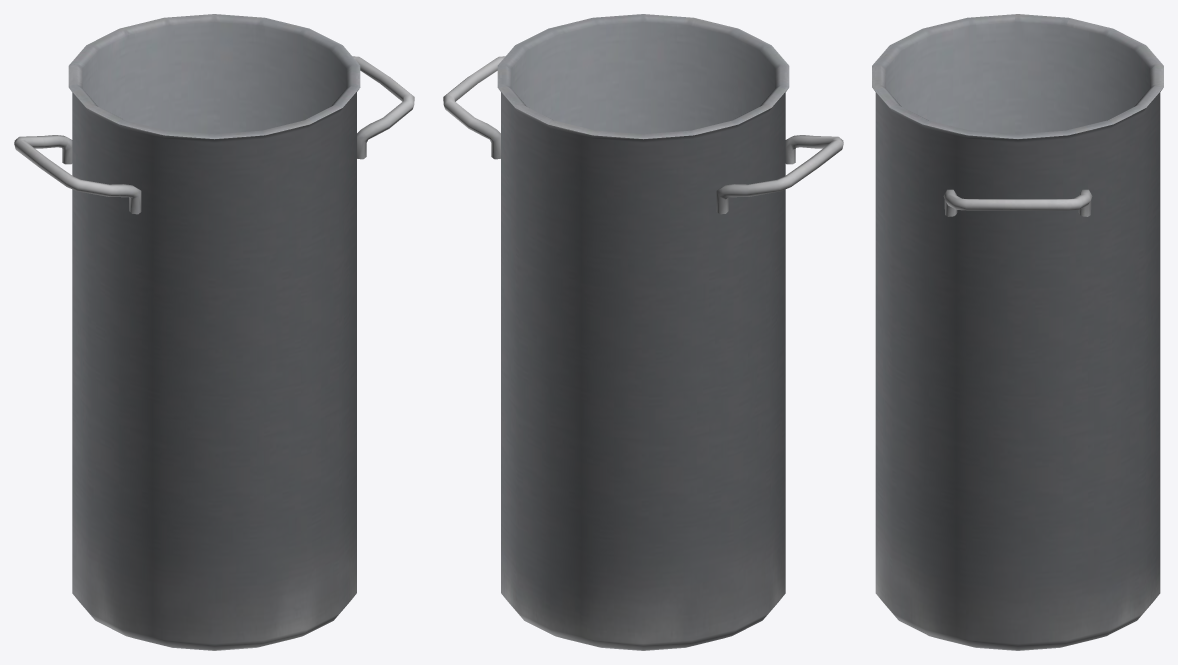
Rendered from SM_Pot_03.glb.
3 renders of one model, left to right at view 1: azimuth 30°, elevation 25°; view 2: azimuth 150°, elevation 25°; view 3: azimuth 270°, elevation 25°, orthographic.
Parts seen in each view (by area): view 1: SM_Pot_03; view 2: SM_Pot_03; view 3: SM_Pot_03.
Boxes of the visible parts, x1,y1,x2,y2 form: SM_Pot_03: [14, 14, 414, 650]; SM_Pot_03: [443, 14, 843, 650]; SM_Pot_03: [872, 14, 1163, 650].
Size of the model in its own units: 0.2805 by 0.3998 by 0.2018.
1 material, 1 textured.
